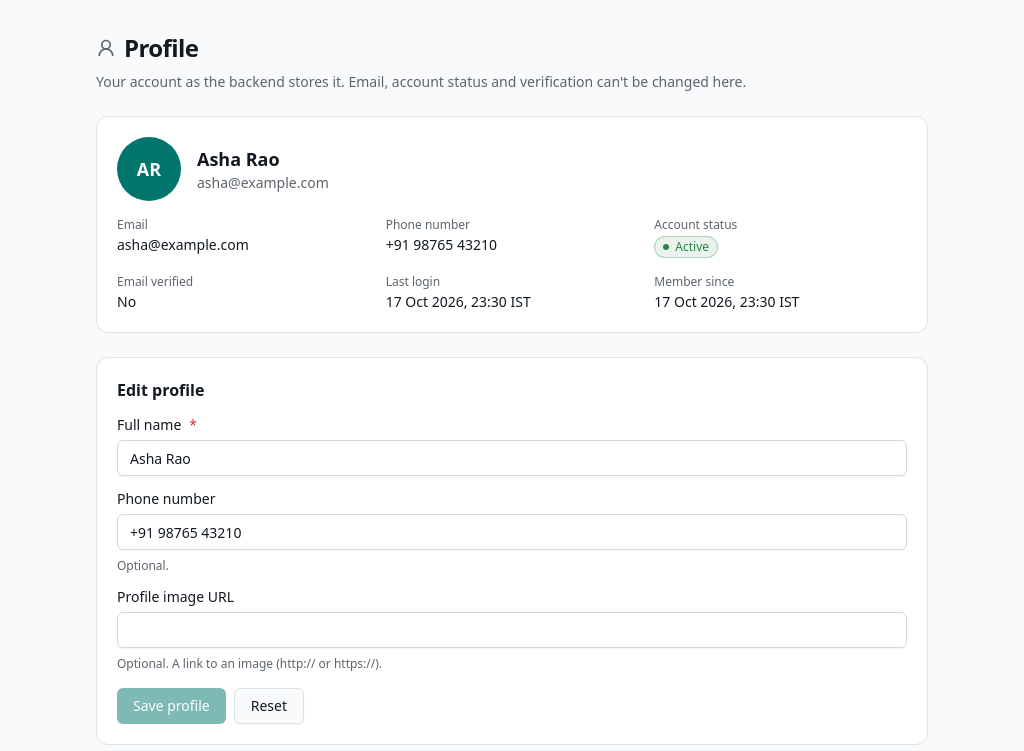
Test case: ProfilePage › shows the backend's 422 reason on the field
Type "https://example.com/a.png" into the field labelled "Profile image URL" at point(512, 630), box top-left (117, 612), bottom-right (907, 648)
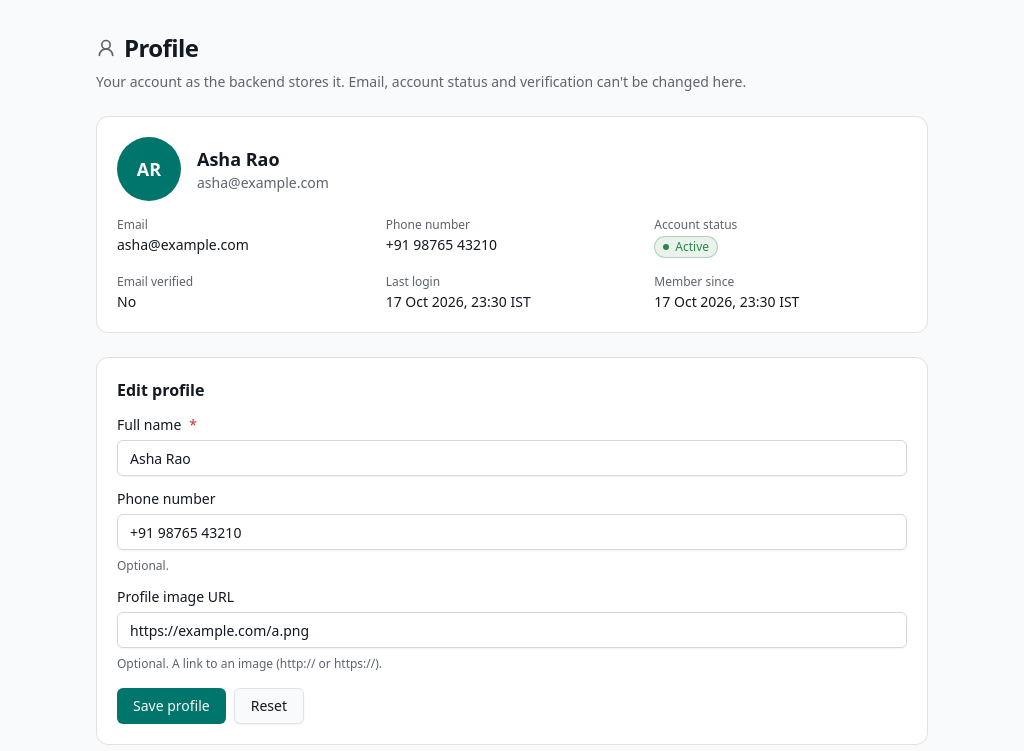
Click the button "Save profile" at point(171, 706), box top-left (117, 688), bottom-right (226, 724)
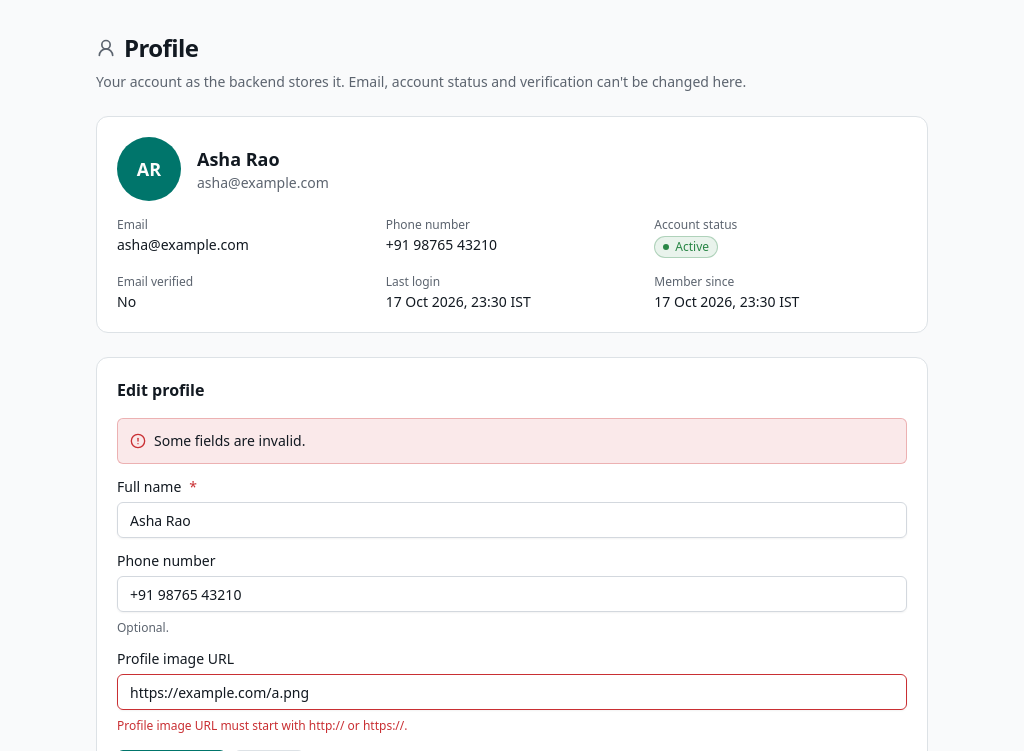
Now the text "Profile image URL must start with http:// or https://." is shown, box top-left (117, 717), bottom-right (408, 734)
